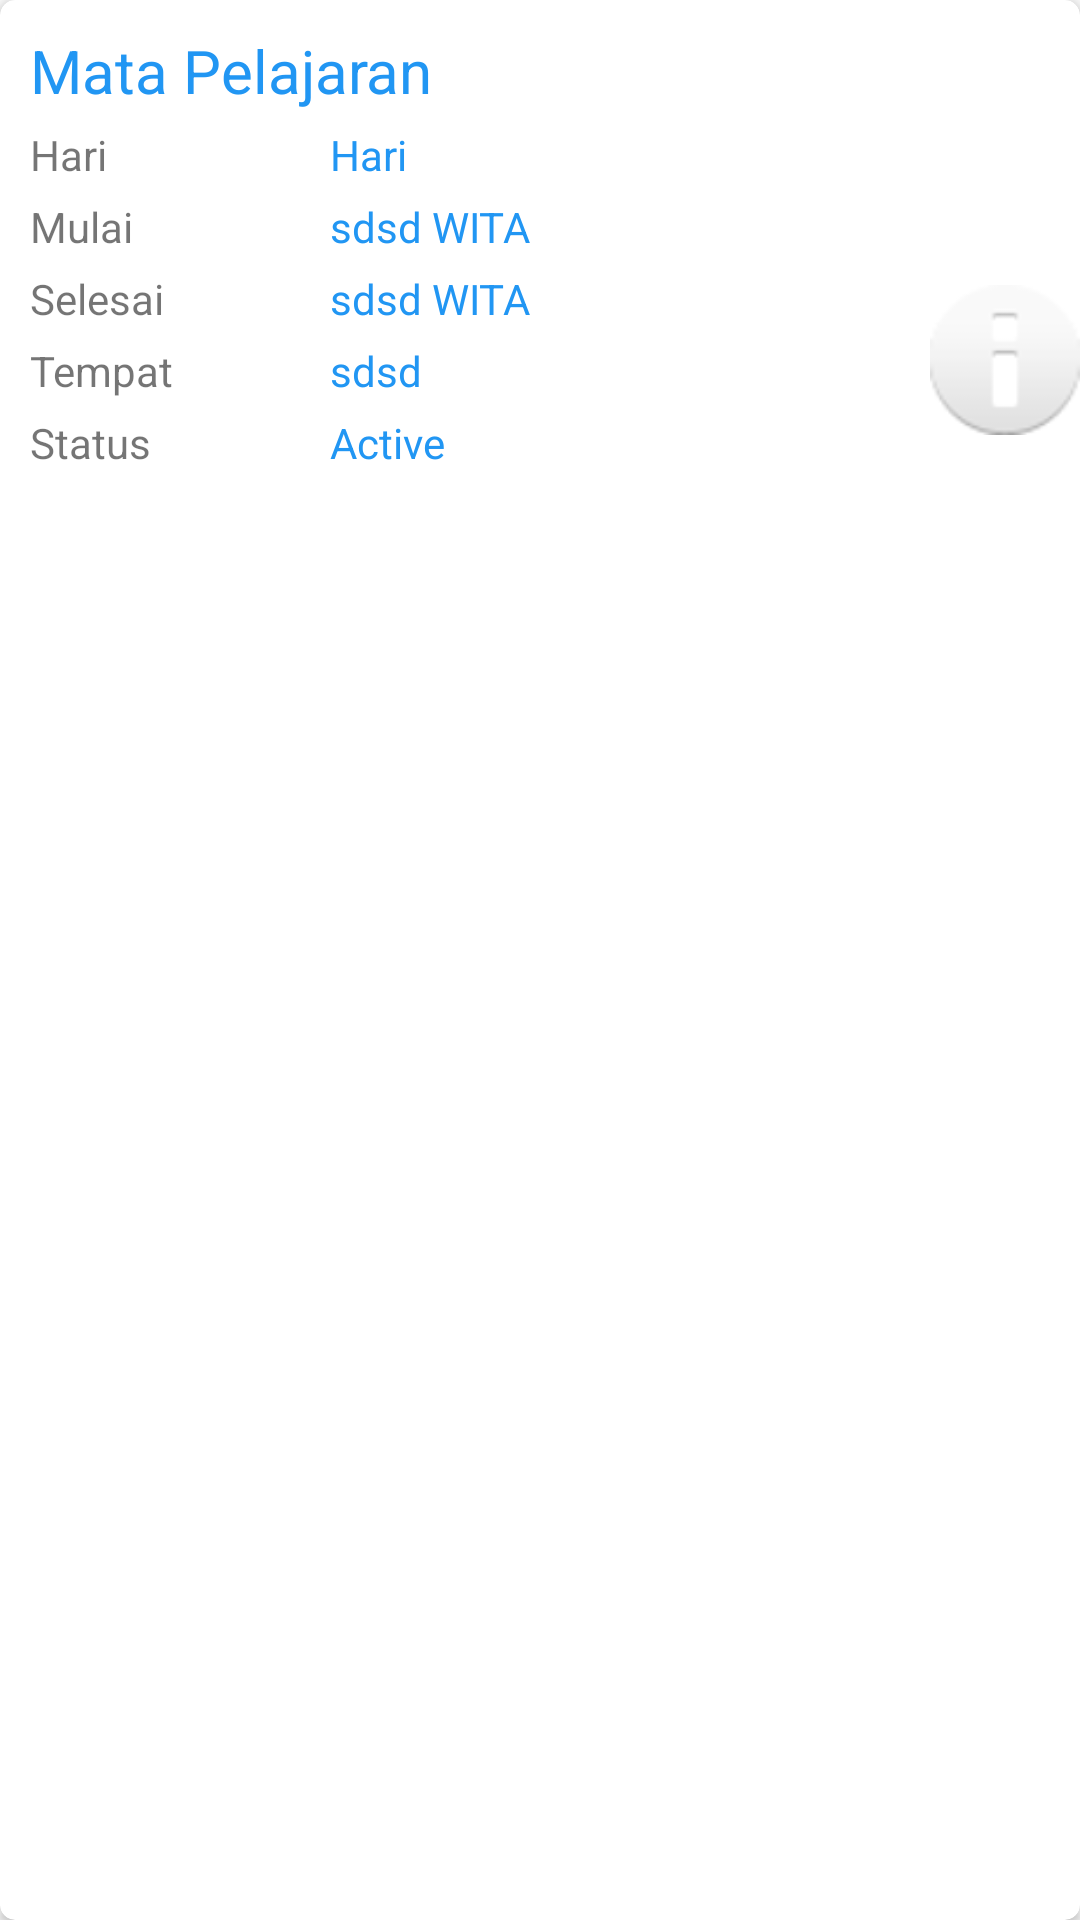

Where to tap for icons on this 1080*1920 app screen, as [x,y]:
info: [1005,374]
